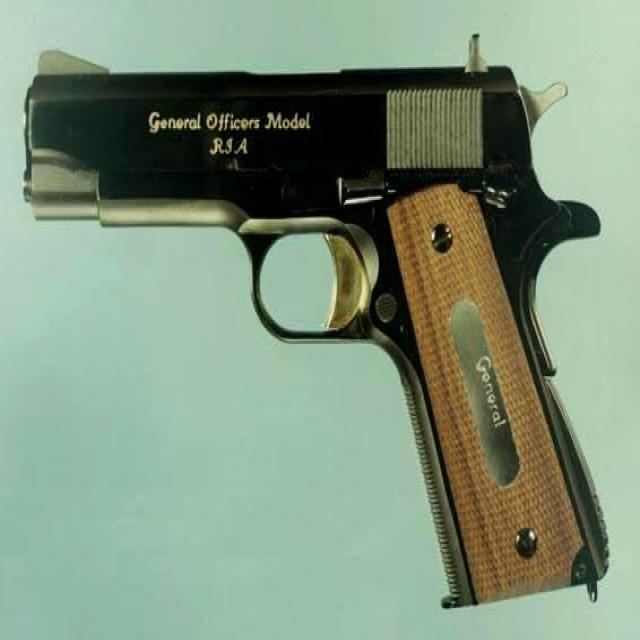pistol: (18, 26, 610, 610)
